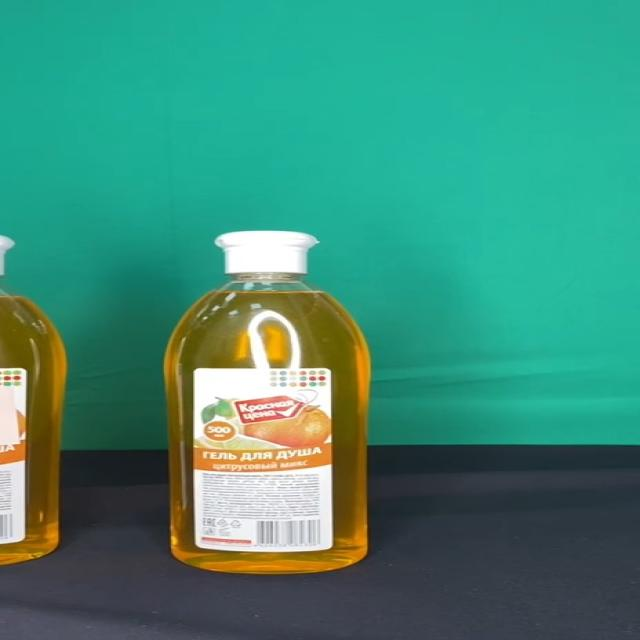Bottle: (163, 230, 374, 574)
Cap: (214, 231, 318, 274)
